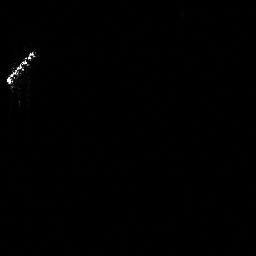ship: (3, 46, 40, 91)
